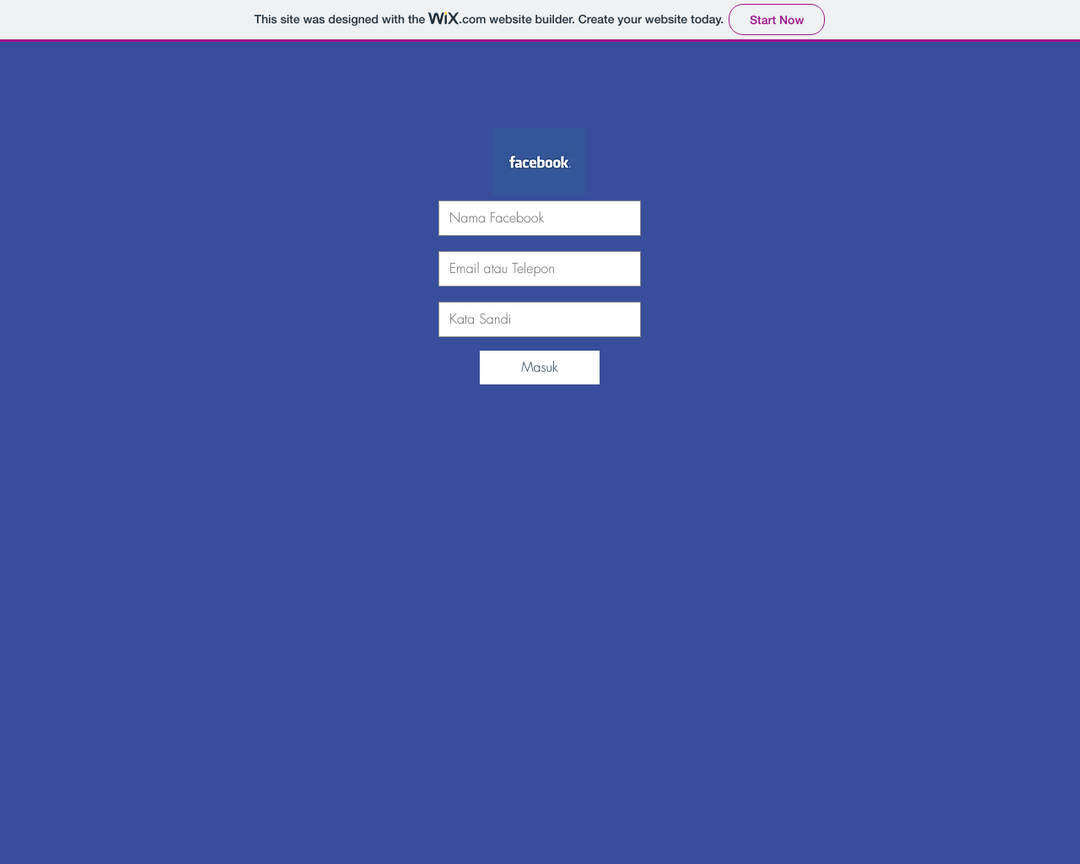Facebook: (504, 150, 573, 178)
